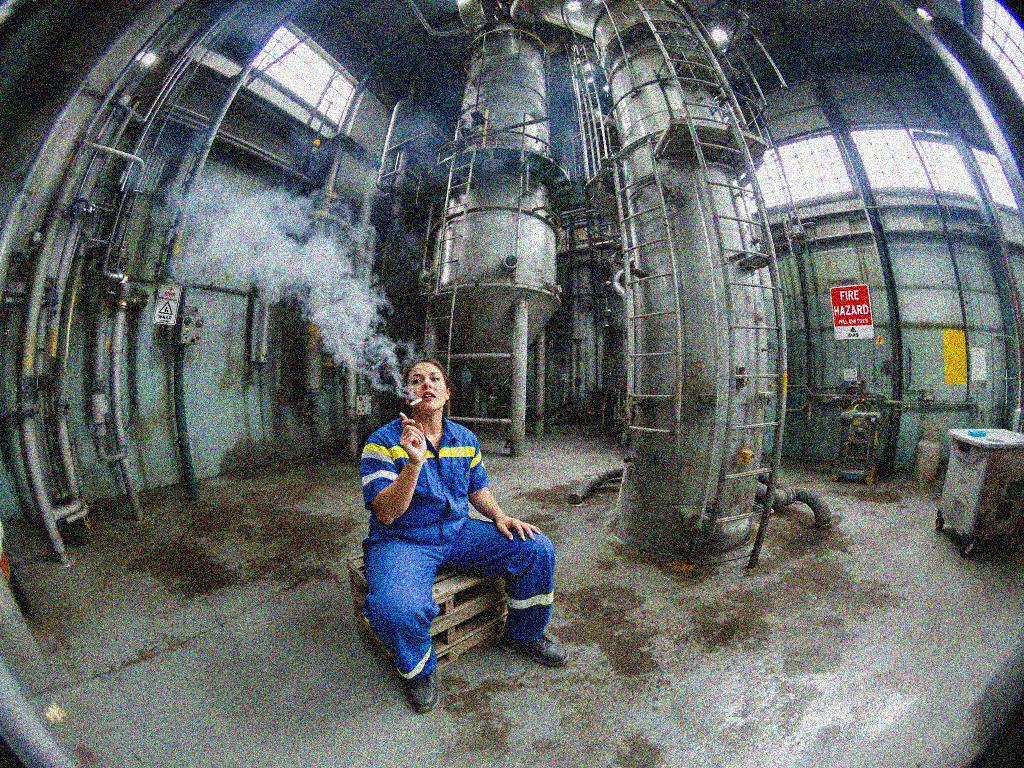smoking: (402, 390, 429, 412)
